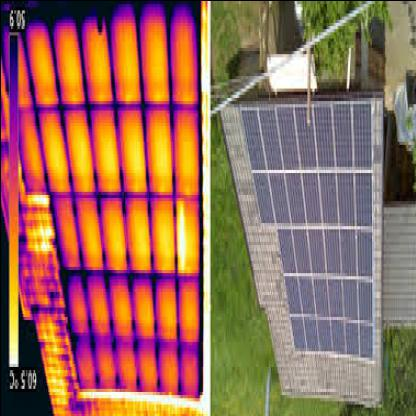Defects: (176, 200, 186, 266)
